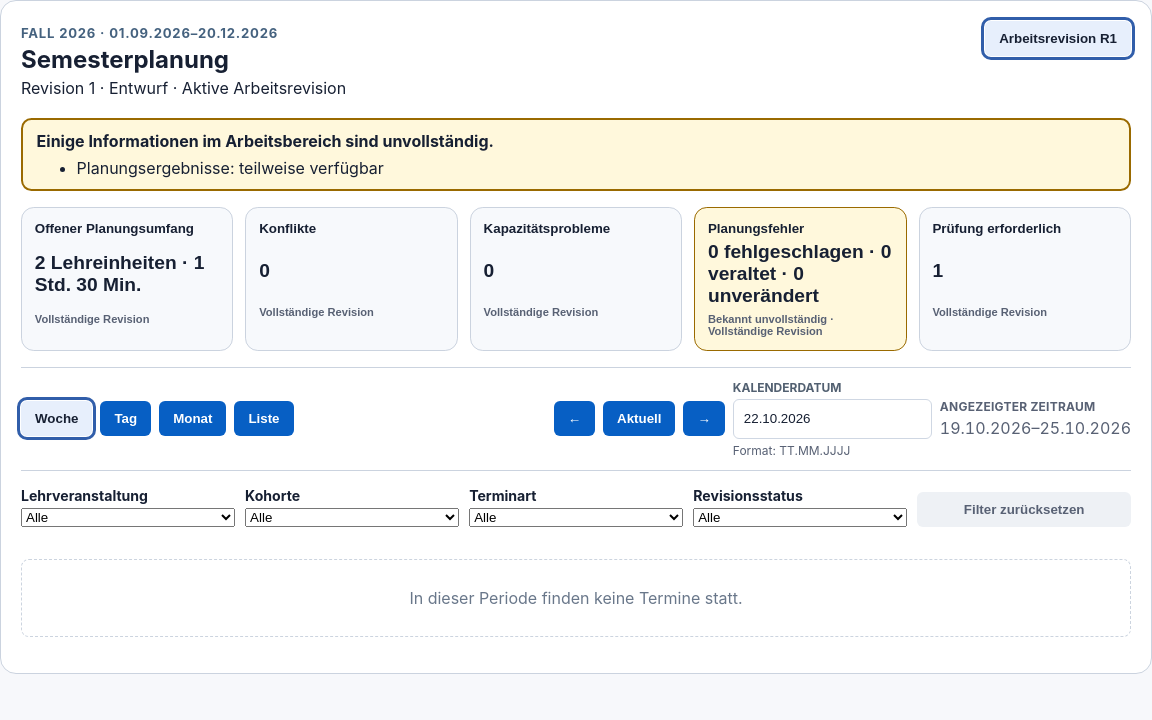
it: CalendarPlanningWorkspace › uses the established Courses overview as its only List mode
Click the button "Liste" at (264, 418), box [234,401,294,436]
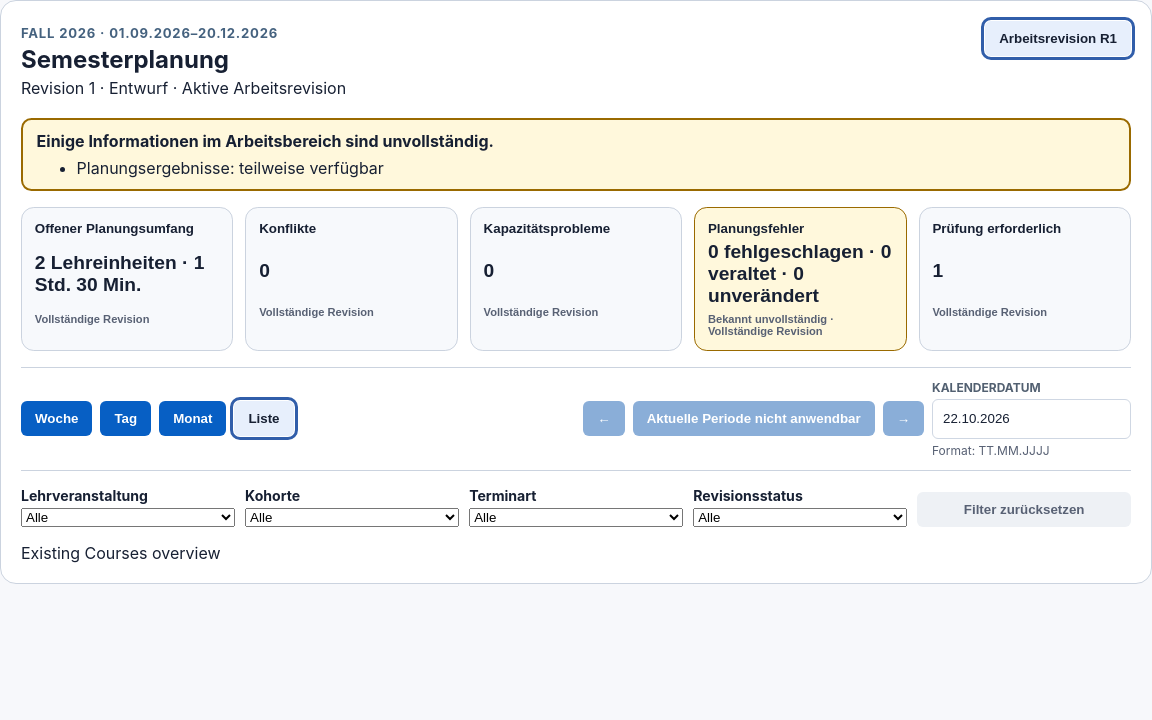
Check: the number of elements with test id "existing-list" is 1, box [21,543,221,563]
Check: the button "Aktuelle Periode nicht anwendbar" is disabled, box [633,401,875,436]
